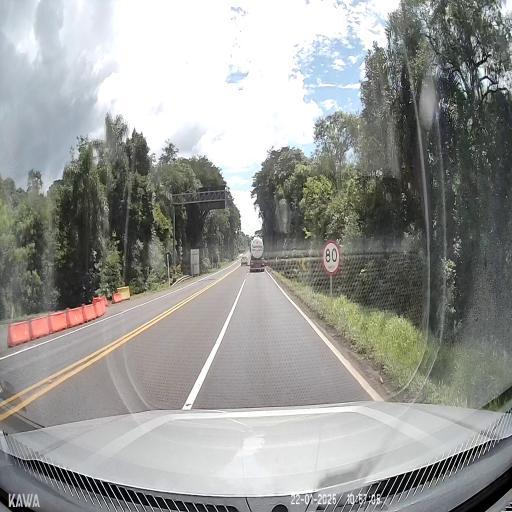R-19: (321, 240, 340, 275)
